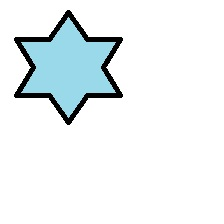star: (13, 9, 123, 126)
